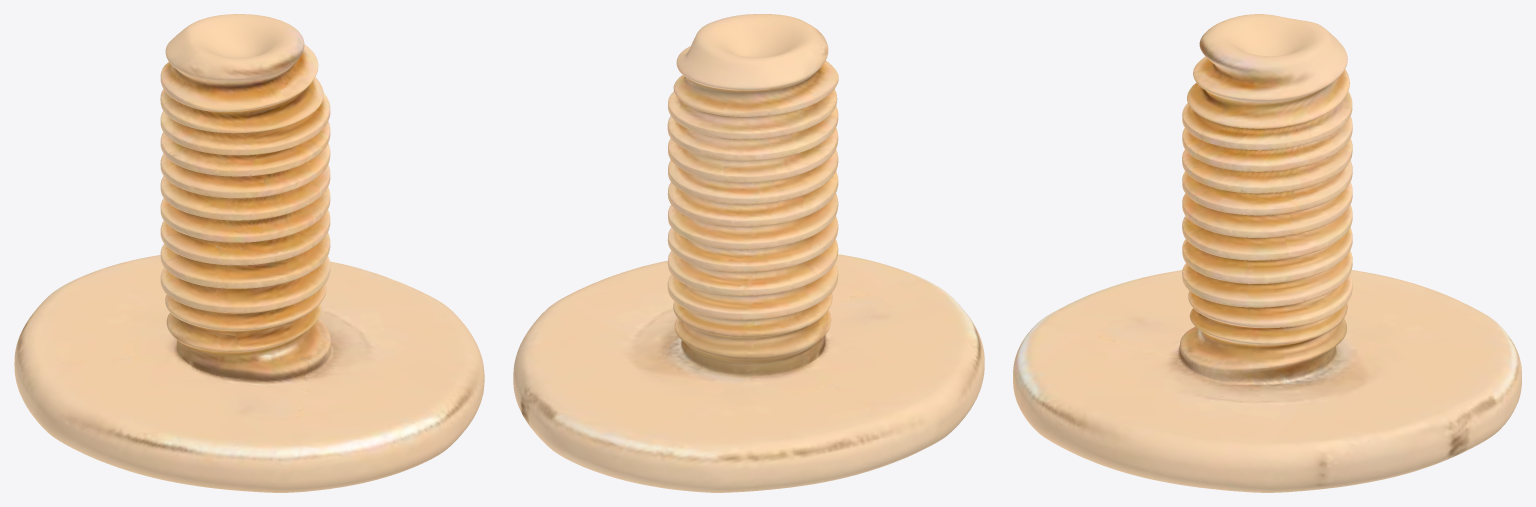
Rendered from kyn3d-tornillo-macho.glb.
The picture shows the model from 3 angles, left to right: view 1: azimuth 30°, elevation 25°; view 2: azimuth 150°, elevation 25°; view 3: azimuth 270°, elevation 25°; orthographic projection.
Bounding box in the file's own units: 0.0107 × 0.00911 × 0.0117.
1 material, 1 textured.
